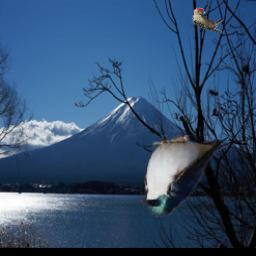Swallow: (139, 136, 230, 218)
Woodpecker: (192, 7, 223, 33)
